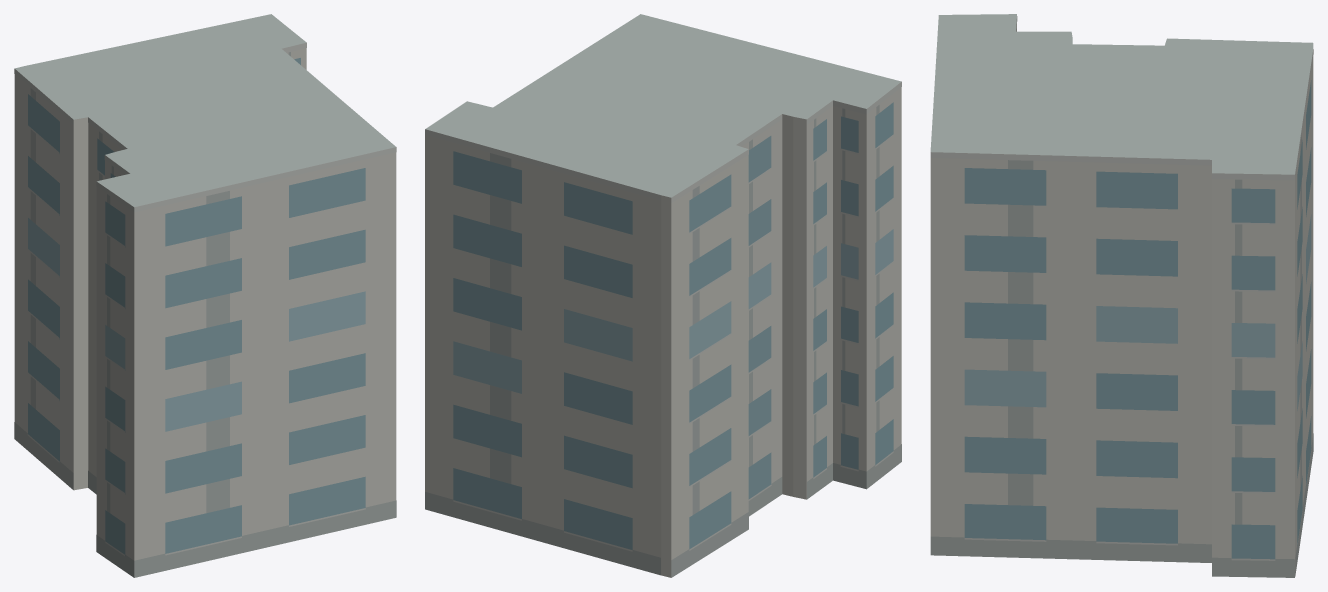
File: survey-upis-32575827.glb
The picture shows the model from 3 angles, left to right: view 1: azimuth 30°, elevation 25°; view 2: azimuth 150°, elevation 25°; view 3: azimuth 270°, elevation 25°; orthographic projection. The views are drawn at different scales.
Visible parts, largest first — view 1: survey-upis-32575827.tmp; view 2: survey-upis-32575827.tmp; view 3: survey-upis-32575827.tmp.
Part boxes in pixels (<box>): survey-upis-32575827.tmp: <box>14,14,396,577</box>; survey-upis-32575827.tmp: <box>425,14,901,577</box>; survey-upis-32575827.tmp: <box>930,14,1313,577</box>.
Size of the model in its own units: 14.28 by 16.7 by 14.39.
